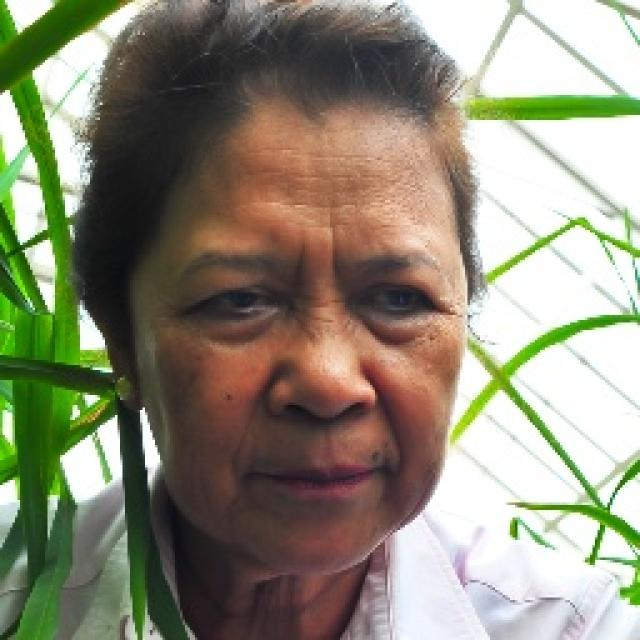earlobe: (90, 289, 144, 412)
